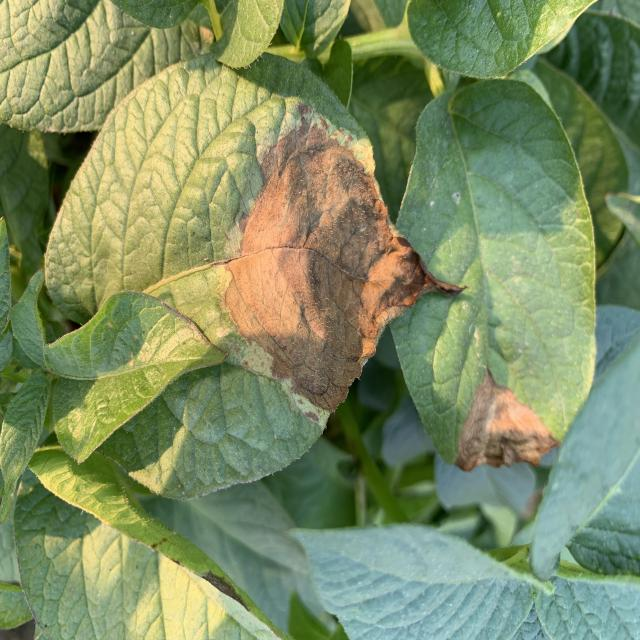lateblight: (224, 122, 462, 410), (455, 370, 559, 472)
